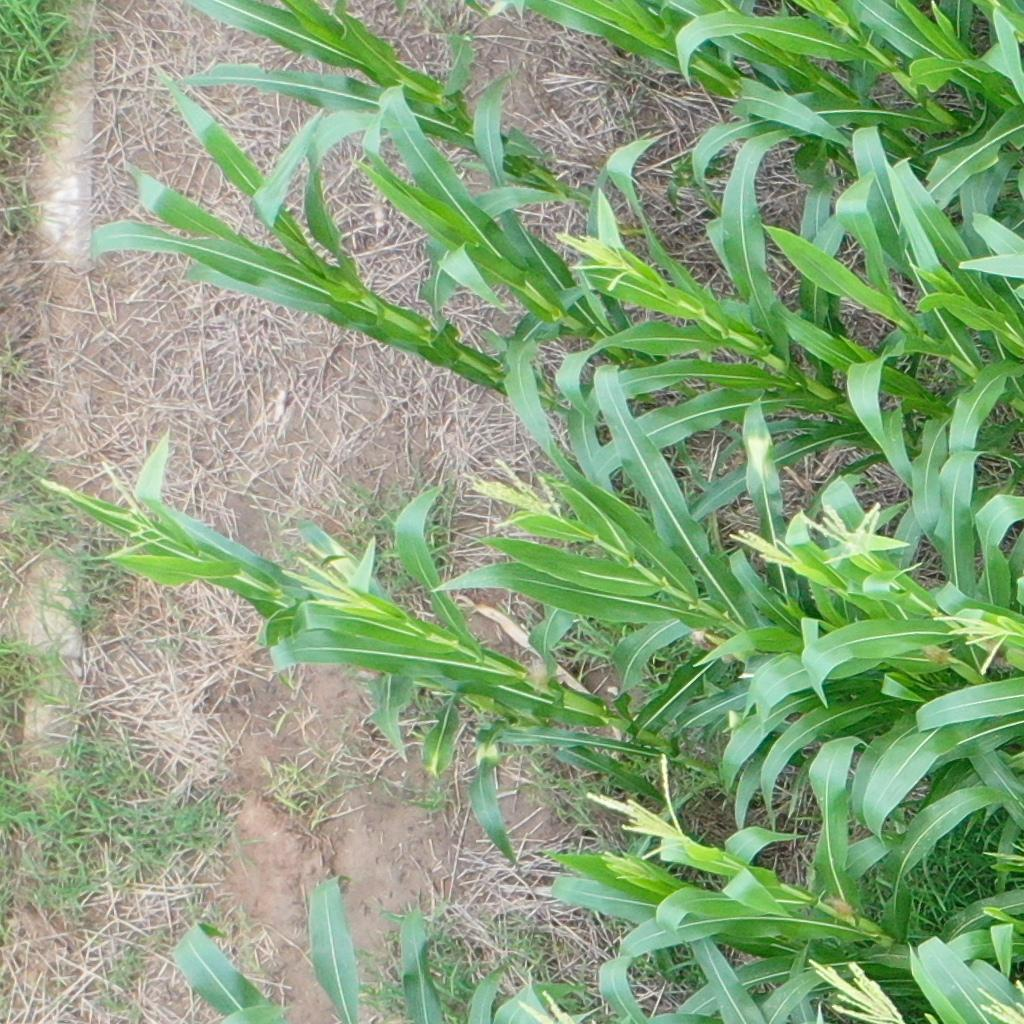Tassel: (31, 448, 175, 569), (585, 749, 700, 864), (282, 535, 385, 620), (472, 449, 571, 531), (806, 953, 911, 1022), (793, 497, 888, 569), (549, 218, 639, 288), (927, 605, 1008, 675), (724, 520, 798, 580), (509, 983, 577, 1024), (974, 974, 1024, 1022), (598, 850, 648, 886)
